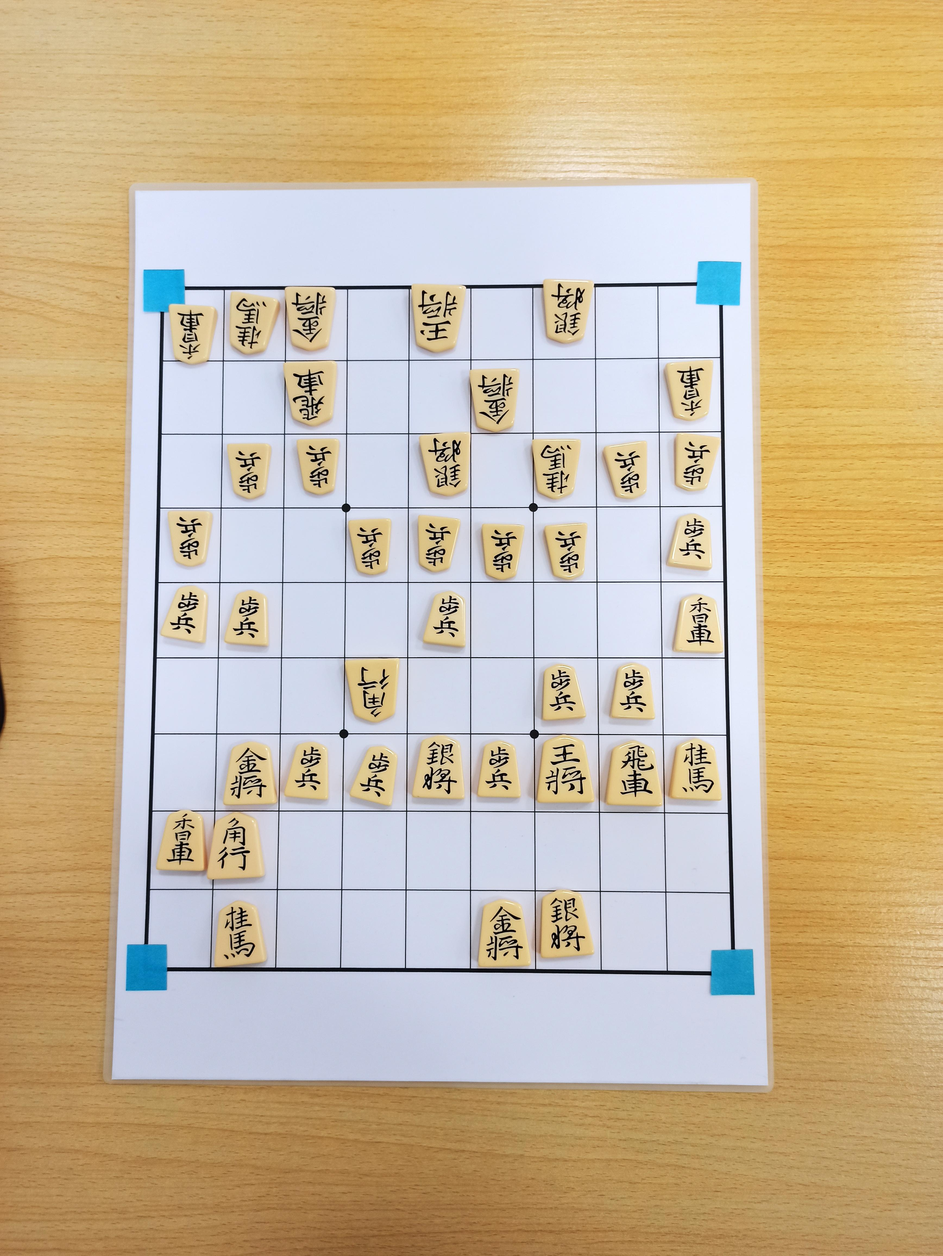board: (147, 284, 735, 973)
